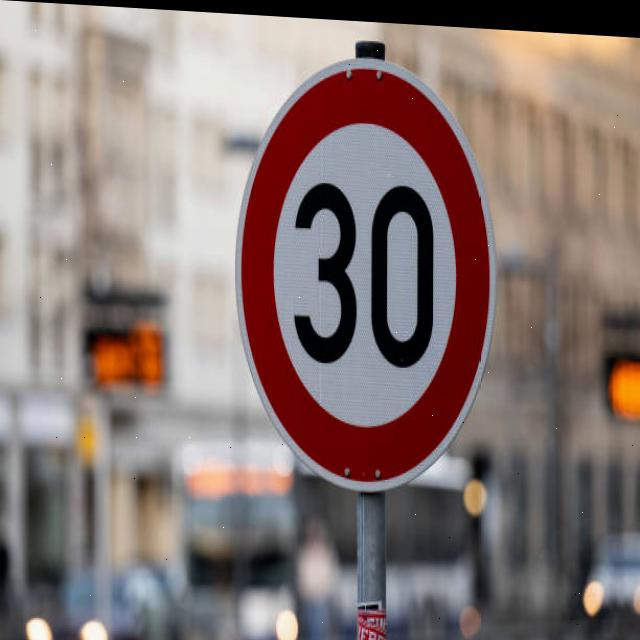Speed limit 30: (233, 42, 500, 497)
